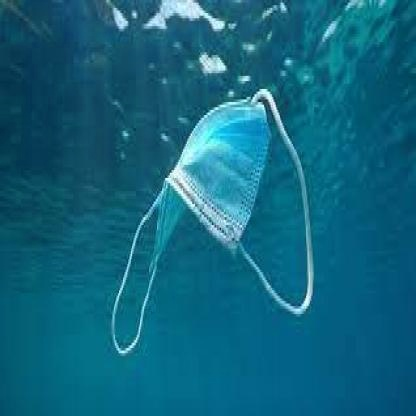Mask: (107, 81, 314, 364)
